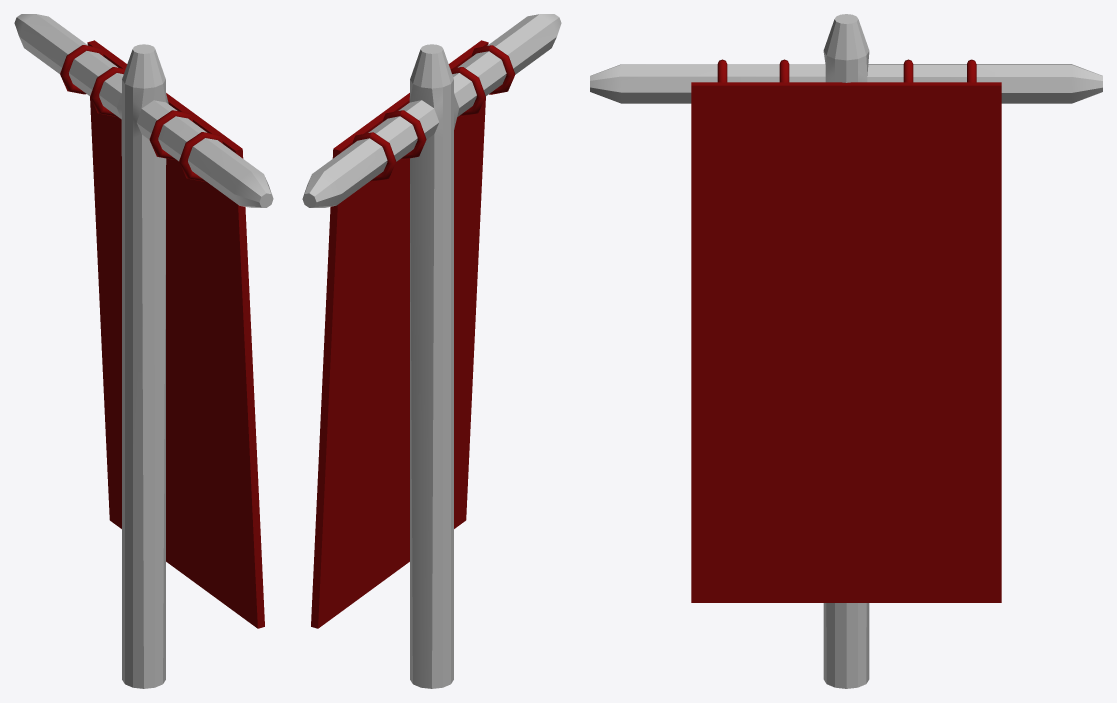
The model's file is Banner.fbx.
3 renders of one model, left to right at view 1: azimuth 30°, elevation 25°; view 2: azimuth 150°, elevation 25°; view 3: azimuth 270°, elevation 25°, orthographic. The views are drawn at different scales.
Visible parts, largest first — view 1: pPlane2, pCylinder1; view 2: pPlane2, pCylinder1; view 3: pPlane2, pCylinder1.
Boxes of the visible parts, x1=… form: pPlane2: x1=60, y1=40, x2=264, y2=628; pCylinder1: x1=14, y1=14, x2=273, y2=688; pPlane2: x1=311, y1=40, x2=515, y2=628; pCylinder1: x1=302, y1=14, x2=561, y2=688; pPlane2: x1=691, y1=59, x2=1001, y2=602; pCylinder1: x1=590, y1=14, x2=1102, y2=688.
Size of the model in its own units: 2.75 by 23.43 by 16.5.
